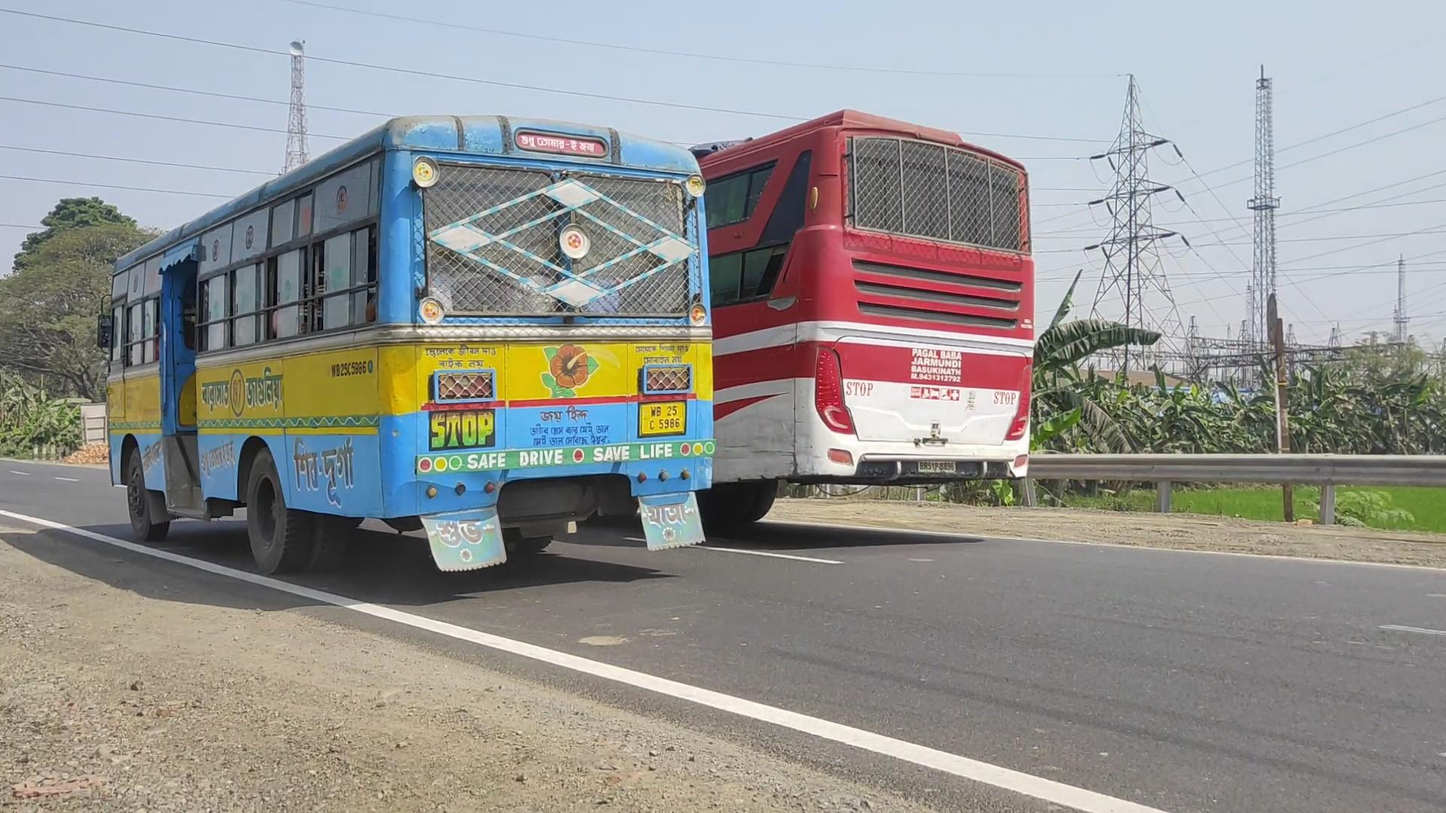Bus: (96, 114, 716, 577), (694, 109, 1035, 540)
